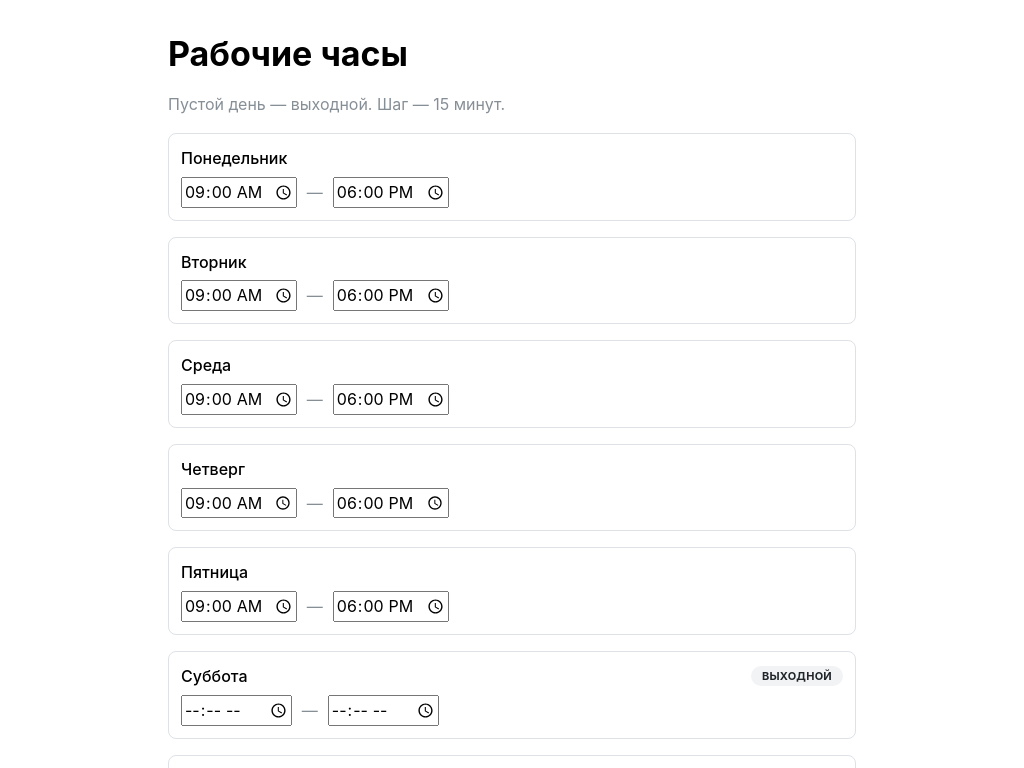
Test: Редактор рабочих часов › сохраняет часы через API
Replace the text in the time field named "Понедельник начало" with "10:00" at [239, 192], box [181, 177, 297, 208]
(page scrolled)
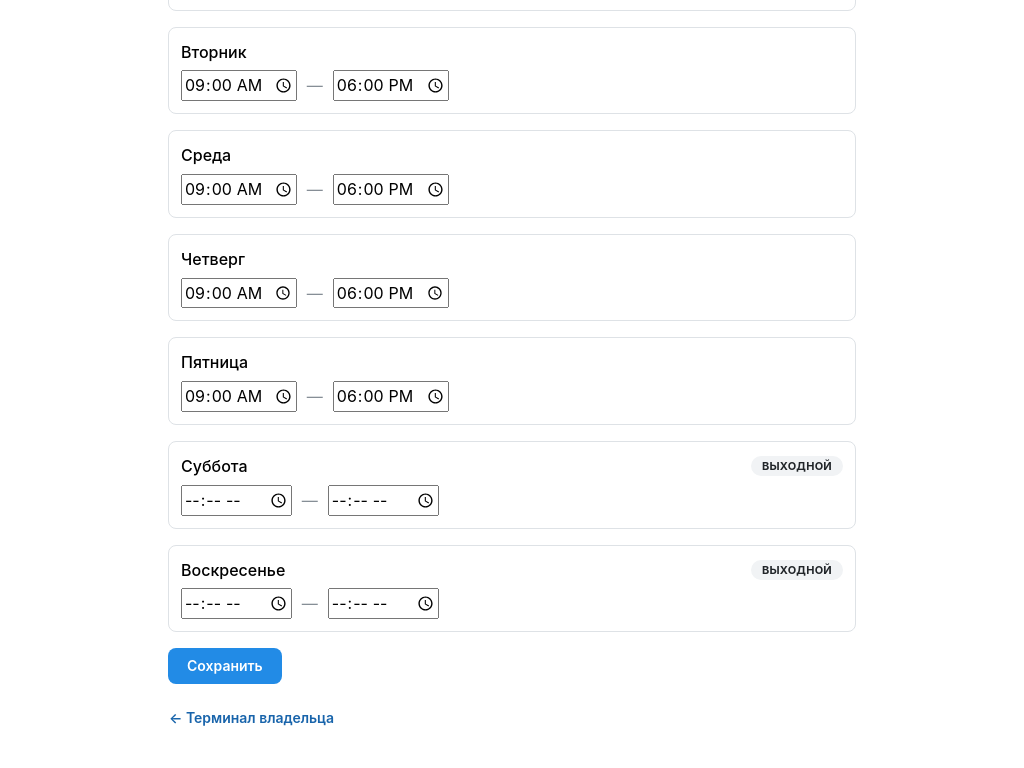
Click the button "Сохранить" at [225, 666], box [168, 648, 282, 684]
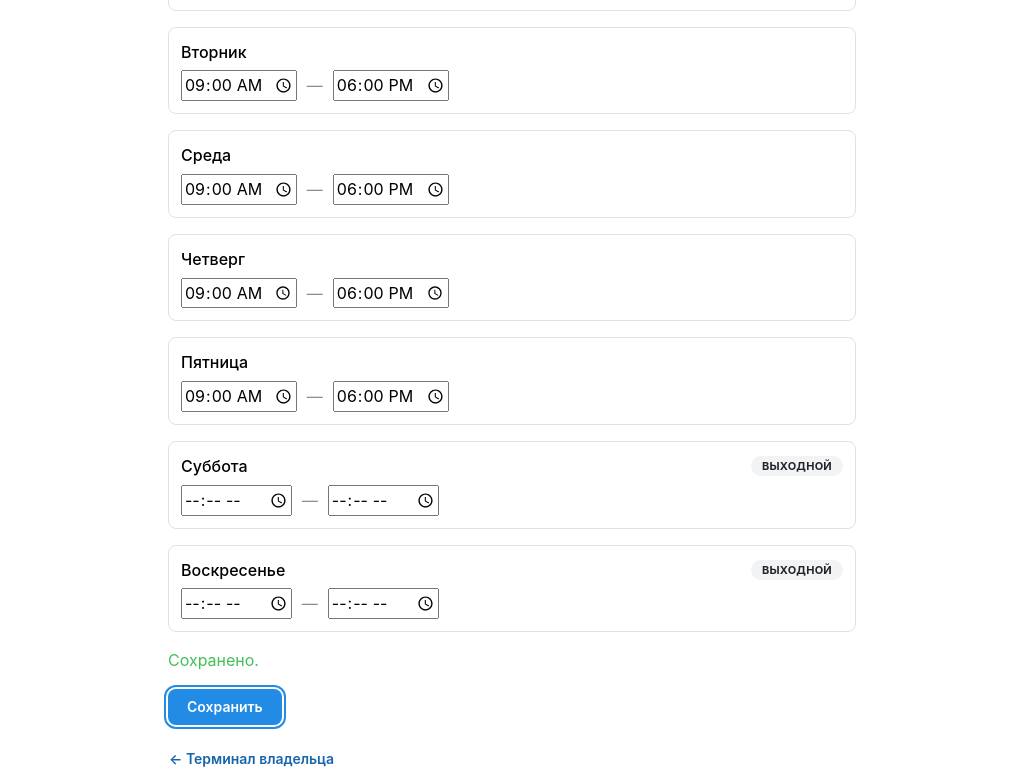
Expected: the text "Сохранено." is shown, [168, 650, 259, 670]
